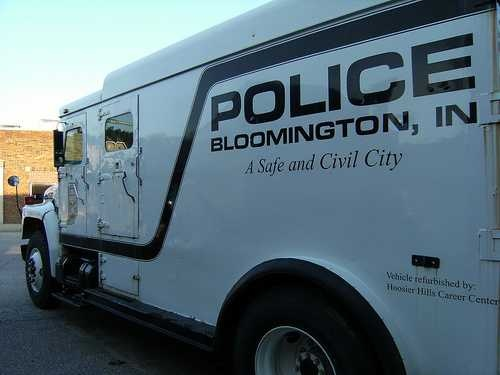Police Van: (26, 0, 500, 363)
